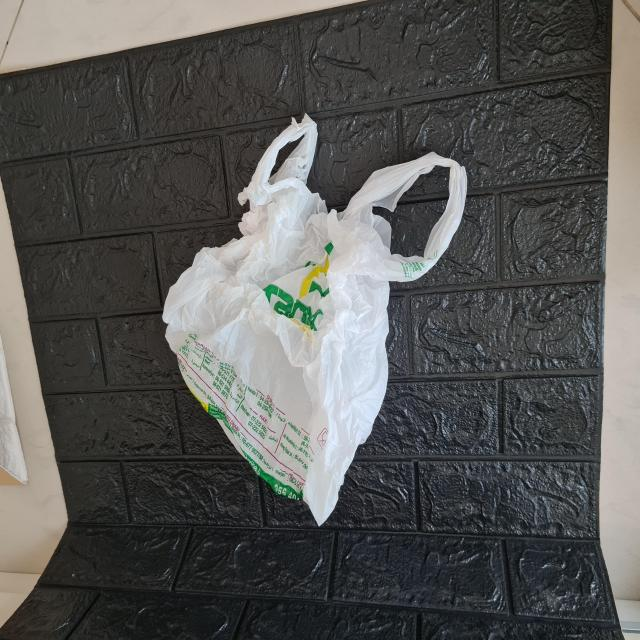plastic bag: (163, 112, 465, 530)
